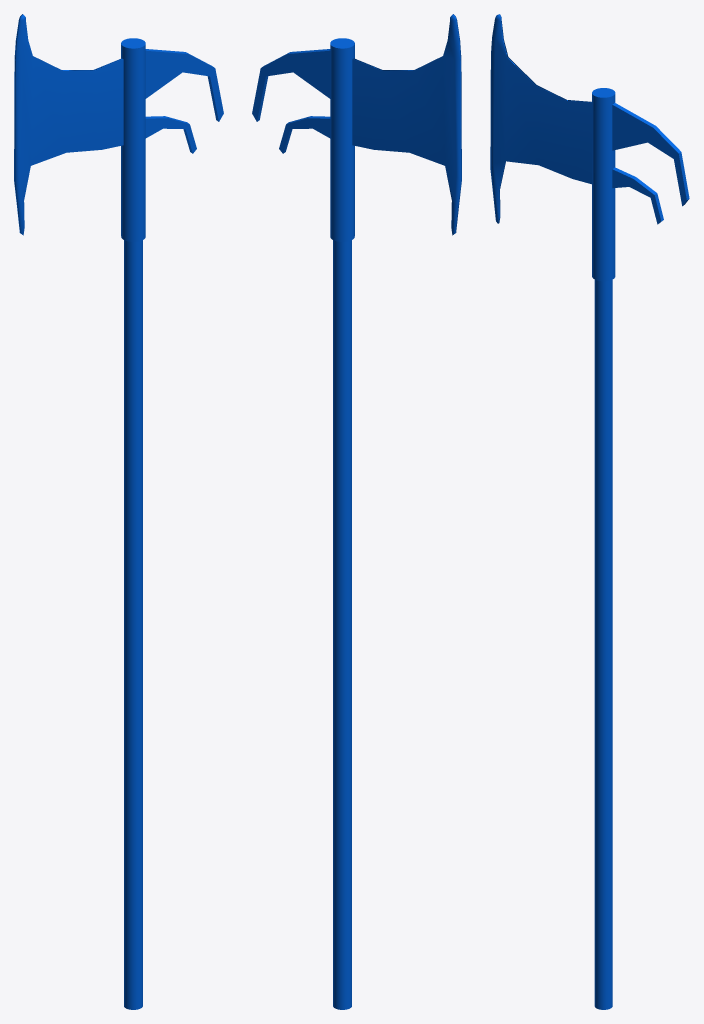
Rendered from lvl1_weapon.fbx.
3 views of the same model, side by side, from view 1: azimuth 30°, elevation 25°; view 2: azimuth 150°, elevation 25°; view 3: azimuth 330°, elevation 25° (orthographic). The views are drawn at different scales.
Visible parts, largest first — view 1: pCube32; view 2: pCube32; view 3: pCube32.
Part boxes in pixels (<box>): pCube32: <box>14,14,223,1009</box>; pCube32: <box>252,14,461,1009</box>; pCube32: <box>490,14,689,1009</box>.
Bounding box in the file's own units: 29.79 × 140 × 3.07.
